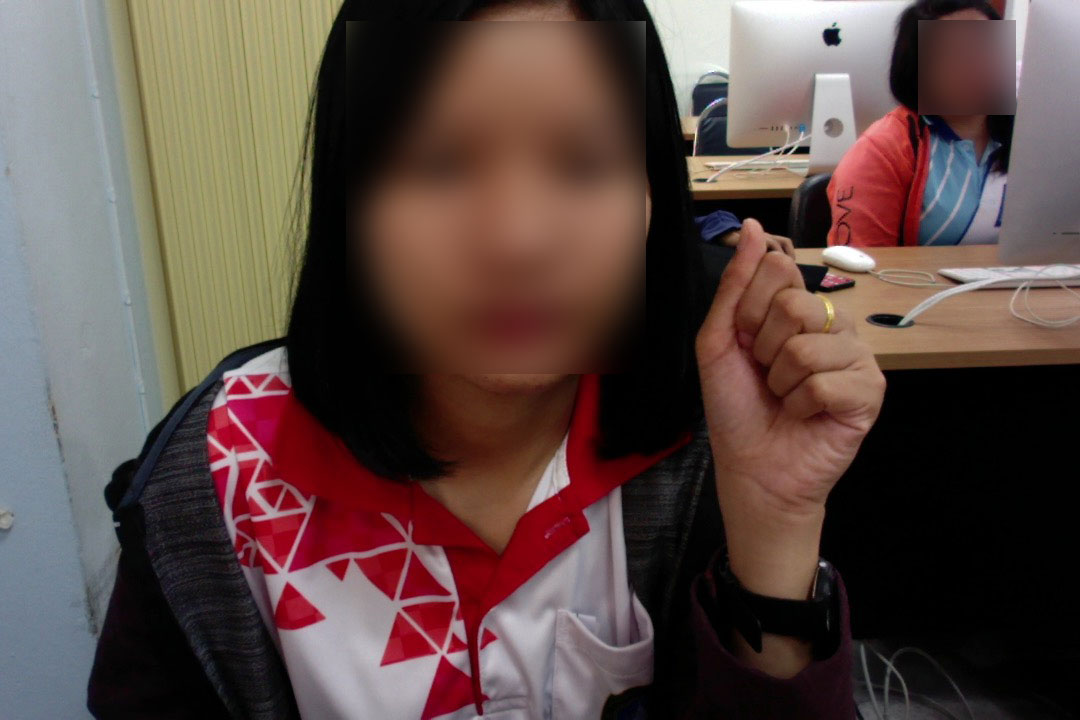or: (682, 206, 894, 521)
